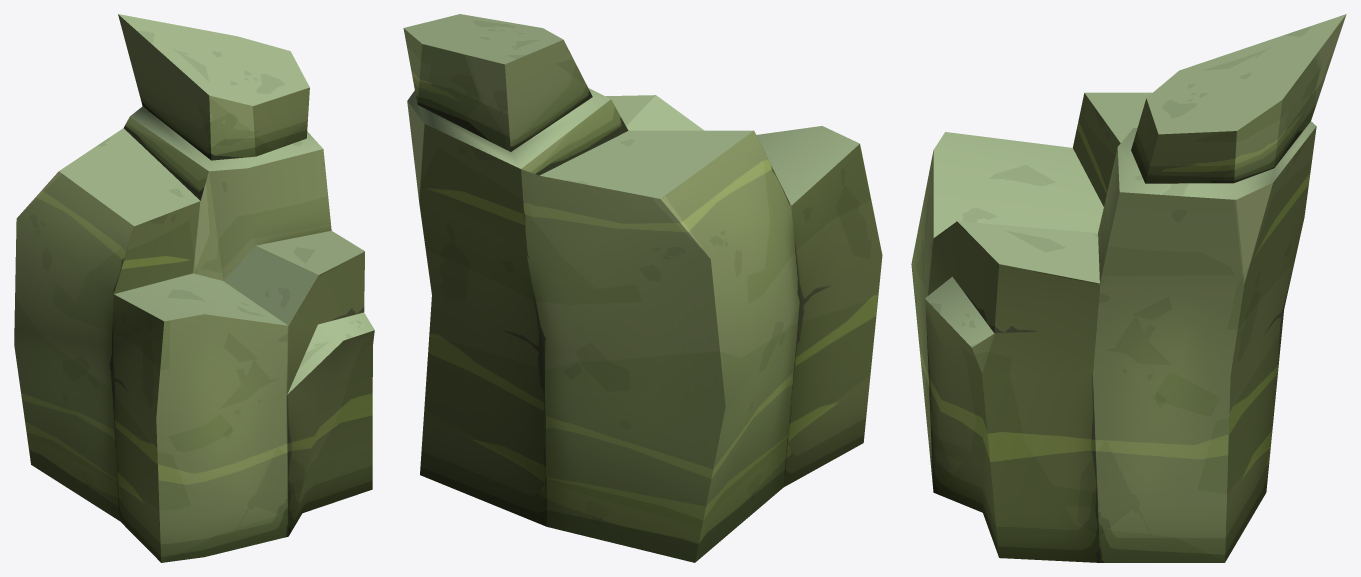
The model's file is F_W_O_rock_017.fbx.
3 views of the same model, side by side, from view 1: azimuth 30°, elevation 25°; view 2: azimuth 150°, elevation 25°; view 3: azimuth 270°, elevation 25° (orthographic). The views are drawn at different scales.
Visible parts, largest first — view 1: F_W_O_rock_017; view 2: F_W_O_rock_017; view 3: F_W_O_rock_017.
Boxes of the visible parts, x1,y1,x2,y2 form: F_W_O_rock_017: (14, 14, 374, 562); F_W_O_rock_017: (403, 14, 882, 562); F_W_O_rock_017: (911, 14, 1346, 562).
Bounding box in the file's own units: 10.3 × 14.58 × 12.
